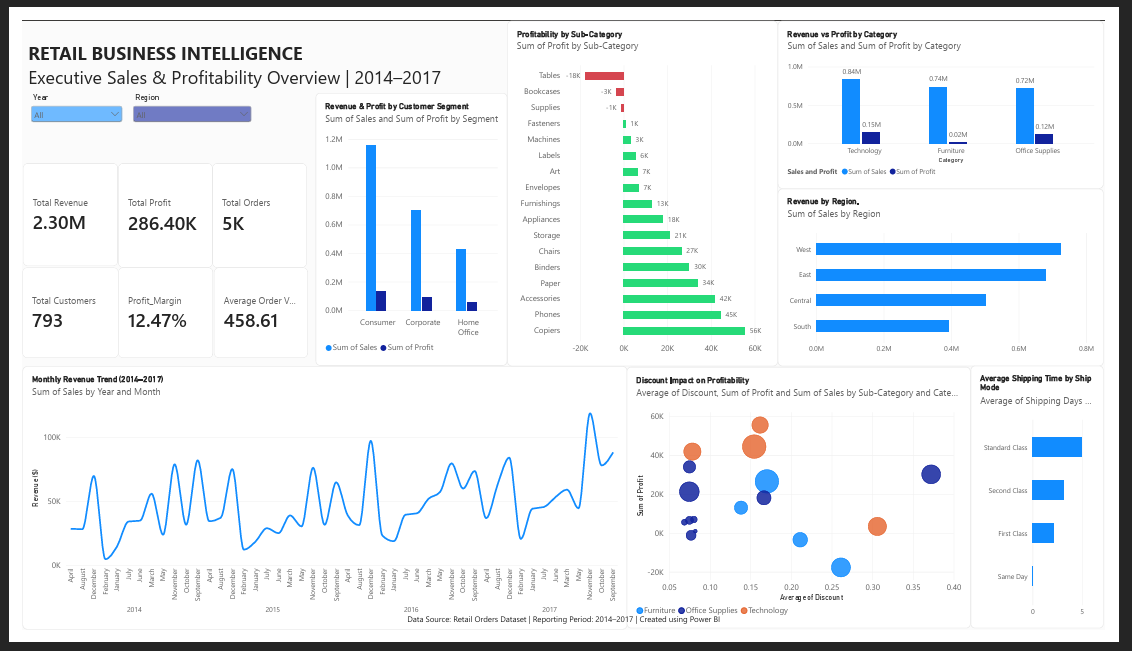

The dashboard page shown, as its layout file describes it:
{"tool":"powerbi","page":{"name":"Page 1","canvas":[1920,1080],"ordinal":0},"visuals":[{"type":"cardVisual","fields":{"Data":["retail_bi retail_orders.Total Revenue"]},"box":[1.4,252.9,168.6,182.9],"z":0},{"type":"cardVisual","fields":{"Data":["retail_bi retail_orders.Total Profit"]},"box":[170,252.9,167.1,185.7],"z":1000},{"type":"cardVisual","fields":{"Data":["retail_bi retail_orders.Total Orders"]},"box":[337,253,167.5,185],"z":2000},{"type":"cardVisual","fields":{"Data":["retail_bi retail_orders.Total Customers"]},"box":[0,438,170,160],"z":3000},{"type":"cardVisual","fields":{"Data":["retail_bi retail_orders.Profit_Margin"]},"box":[170,438,168,160],"z":4000},{"type":"cardVisual","fields":{"Data":["retail_bi retail_orders.Average Order Value"]},"box":[340,438,166,160],"z":5000},{"type":"textbox","box":[10,35,782.5,140],"z":6000},{"type":"lineChart","title":"Monthly Revenue Trend (2014–2017)","fields":{"Category":["retail_bi retail_orders.Year","retail_bi retail_orders.Month"],"Y":["Sum(retail_bi retail_orders.Sales)"]},"box":[0,612.9,1072.9,467.1],"z":7000},{"type":"clusteredBarChart","title":"Revenue by Region.","fields":{"Category":["retail_bi retail_orders.Region"],"Y":["Sum(retail_bi retail_orders.Sales)"]},"box":[1340,297.5,577.5,315],"z":8000},{"type":"clusteredColumnChart","title":"Revenue vs Profit by Category","fields":{"Category":["retail_bi retail_orders.Category"],"Y":["Sum(retail_bi retail_orders.Sales)","Sum(retail_bi retail_orders.Profit)"]},"box":[1340,0,577.5,297.5],"z":9000},{"type":"clusteredBarChart","title":"Profitability by Sub-Category","fields":{"Category":["retail_bi retail_orders.Sub-Category"],"Y":["Sum(retail_bi retail_orders.Profit)"]},"box":[860,0,480,612.5],"z":10000},{"type":"scatterChart","title":"Discount Impact on Profitability","fields":{"Category":["retail_bi retail_orders.Sub-Category"],"Series":["retail_bi retail_orders.Category"],"Size":["Sum(retail_bi retail_orders.Sales)"],"X":["Avg(retail_bi retail_orders.Discount)"],"Y":["Sum(retail_bi retail_orders.Profit)"]},"box":[1072,614,610,464],"z":11000},{"type":"clusteredColumnChart","title":"Revenue & Profit by Customer Segment","fields":{"Category":["retail_bi retail_orders.Segment"],"Y":["Sum(retail_bi retail_orders.Sales)","Sum(retail_bi retail_orders.Profit)"]},"box":[520,128,340,484],"z":12000},{"type":"clusteredBarChart","title":"Average Shipping Time by Ship Mode","fields":{"Category":["retail_bi retail_orders.Ship Mode"],"Y":["Avg(retail_bi retail_orders.Shipping Days)"]},"box":[1682,612,236,466],"z":13000},{"type":"slicer","fields":{"Values":["retail_bi retail_orders.Year"]},"box":[10,128,172,112],"z":13001},{"type":"slicer","fields":{"Values":["retail_bi retail_orders.Region"]},"box":[191,128,220,112],"z":13002},{"type":"textbox","box":[646,1052,628,28],"z":13003}]}

Visuals, with their boxes in screenshot pixels (x1, y1, x2, y2), scaled from the page's 1920x1080 canvas onto the 1132x651 screenshot:
cardVisual - retail_bi retail_orders.Total Revenue: [1,152,100,263]
cardVisual - retail_bi retail_orders.Total Profit: [100,152,199,264]
cardVisual - retail_bi retail_orders.Total Orders: [199,153,297,264]
cardVisual - retail_bi retail_orders.Total Customers: [0,264,100,360]
cardVisual - retail_bi retail_orders.Profit_Margin: [100,264,199,360]
cardVisual - retail_bi retail_orders.Average Order Value: [200,264,298,360]
textbox: [6,21,467,105]
"Monthly Revenue Trend (2014–2017)" lineChart: [0,369,633,650]
"Revenue by Region." clusteredBarChart: [790,179,1131,369]
"Revenue vs Profit by Category" clusteredColumnChart: [790,0,1131,179]
"Profitability by Sub-Category" clusteredBarChart: [507,0,790,369]
"Discount Impact on Profitability" scatterChart: [632,370,992,650]
"Revenue & Profit by Customer Segment" clusteredColumnChart: [307,77,507,369]
"Average Shipping Time by Ship Mode" clusteredBarChart: [992,369,1131,650]
slicer - retail_bi retail_orders.Year: [6,77,107,145]
slicer - retail_bi retail_orders.Region: [113,77,242,145]
textbox: [381,634,751,650]
